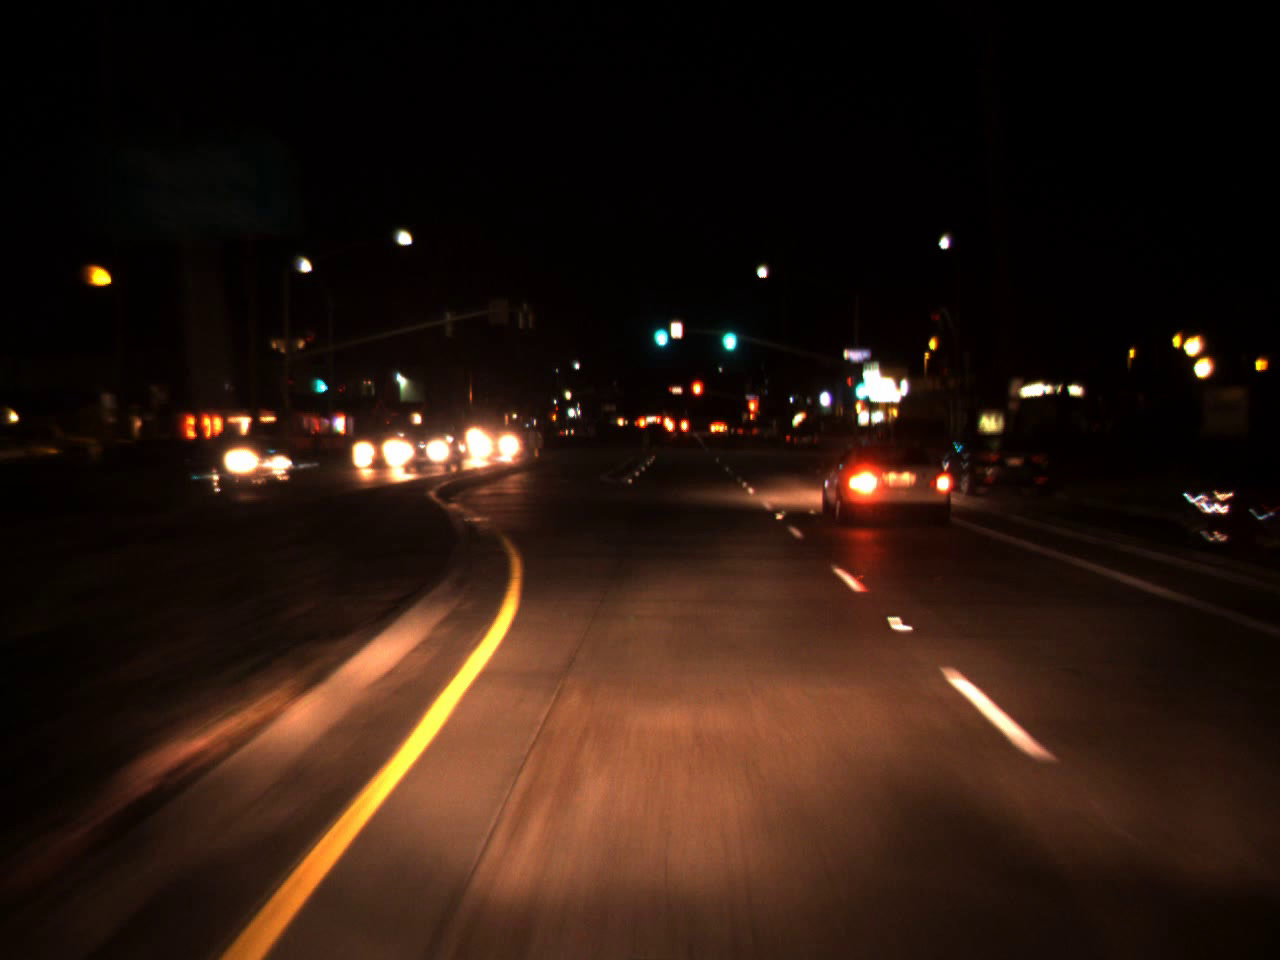go: (716, 314, 739, 353), (650, 307, 669, 352), (849, 367, 865, 403), (313, 362, 325, 398)
stop: (690, 378, 703, 413), (746, 397, 759, 429)
